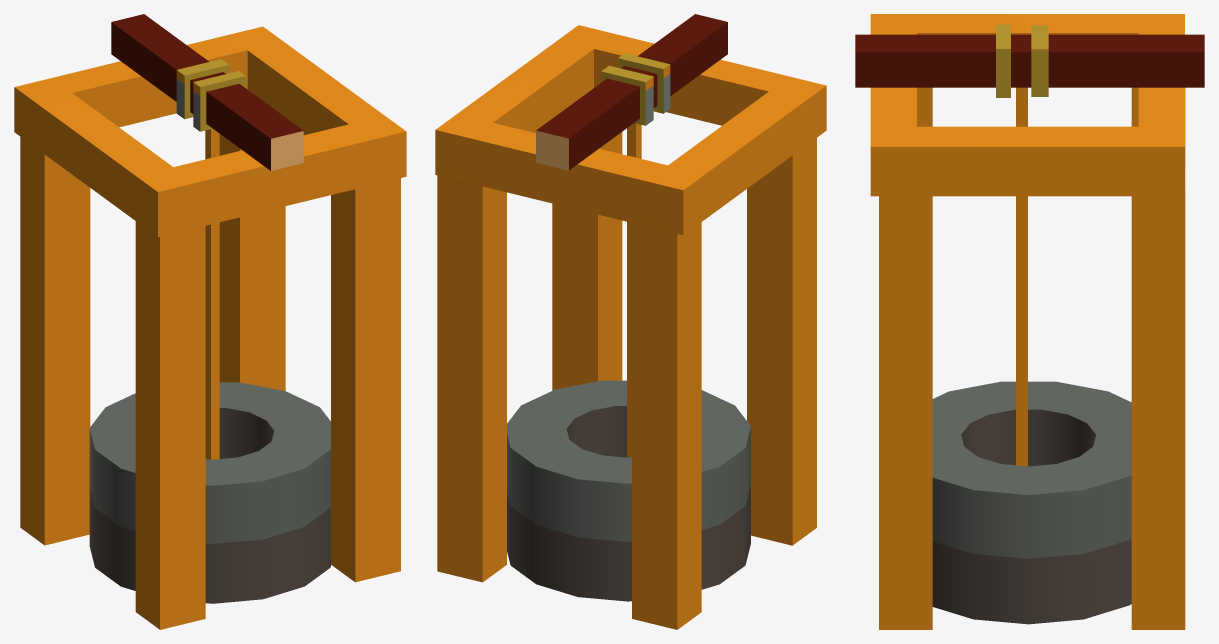
Rendered from waterwell 1.fbx.
The picture shows the model from 3 angles, left to right: view 1: azimuth 30°, elevation 25°; view 2: azimuth 150°, elevation 25°; view 3: azimuth 270°, elevation 25°; orthographic projection. The views are drawn at different scales.
Parts seen in each view (by area): view 1: waterwell; view 2: waterwell; view 3: waterwell.
Boxes of the visible parts, bbox=[...] form: waterwell: bbox=[14, 14, 406, 629]; waterwell: bbox=[435, 14, 826, 629]; waterwell: bbox=[855, 14, 1204, 629].
Size of the model in its own units: 4.86 by 9.01 by 5.41.
